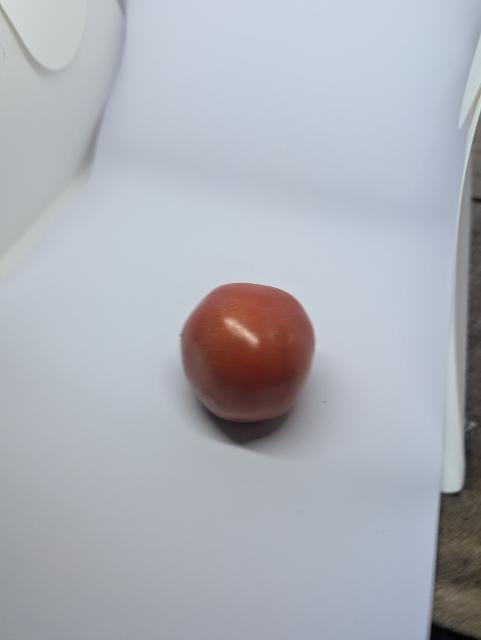red: (144, 230, 359, 469)
